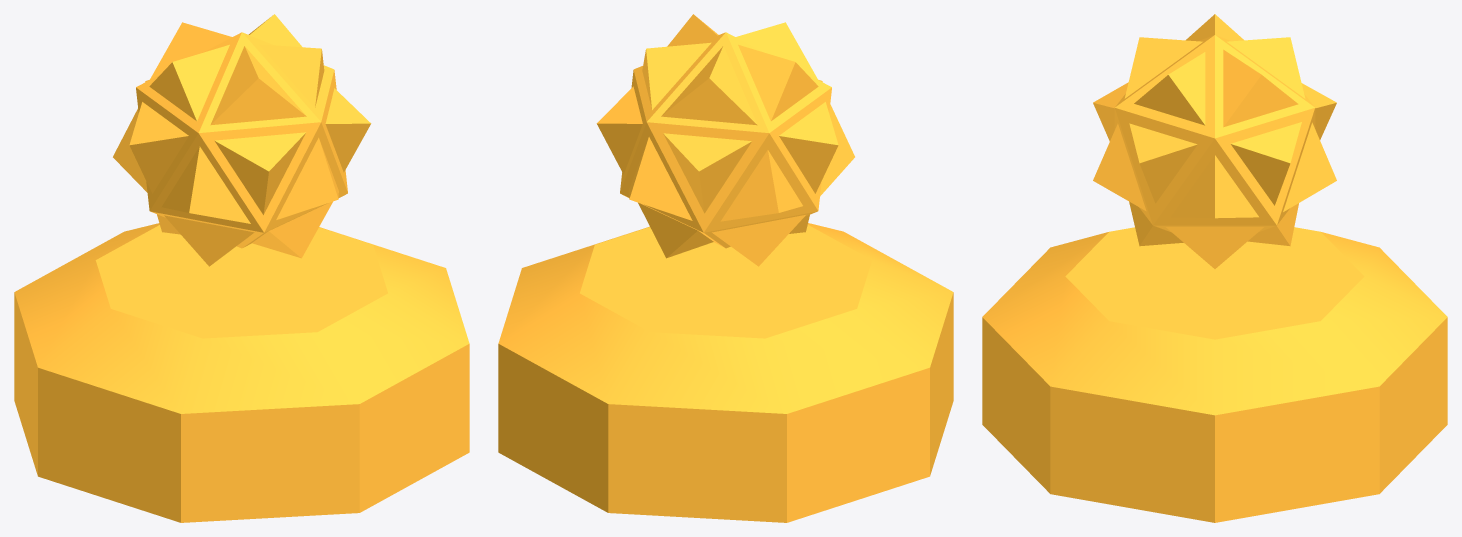
File: NavPointerPrank.fbx
3 renders of one model, left to right at view 1: azimuth 30°, elevation 25°; view 2: azimuth 150°, elevation 25°; view 3: azimuth 270°, elevation 25°, orthographic.
Visible parts, largest first — view 1: Circle.002; view 2: Circle.002; view 3: Circle.002.
Part boxes in pixels (box(x1,y1,x2,y2)): Circle.002: box(14, 14, 469, 522); Circle.002: box(498, 14, 953, 522); Circle.002: box(982, 14, 1447, 522).
Size of the model in its own units: 1377 by 1272 by 1377.
